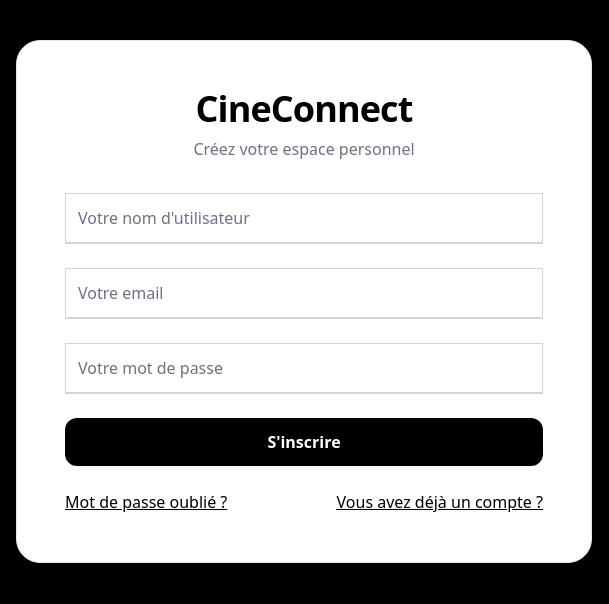
Test: Signup › devrait afficher un message si champs vides
Click the button "S'inscrire". click: (304, 442)
box: [65,418,543,466]
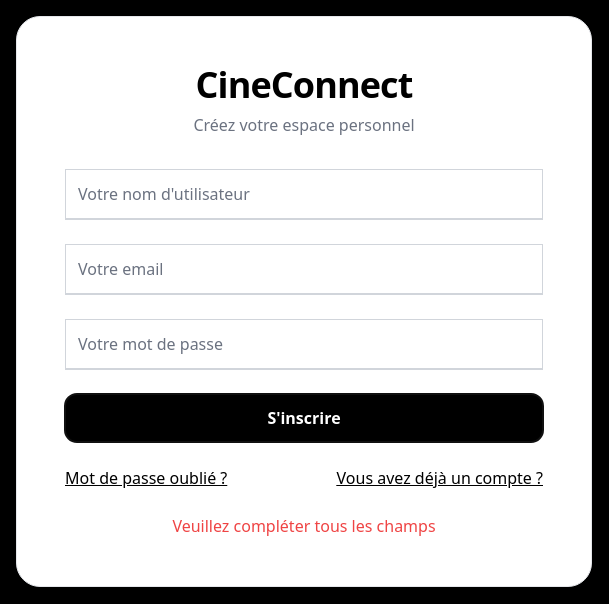
Expected: the text "Veuillez compléter tous les champs" is shown, [172,514,436,536]
